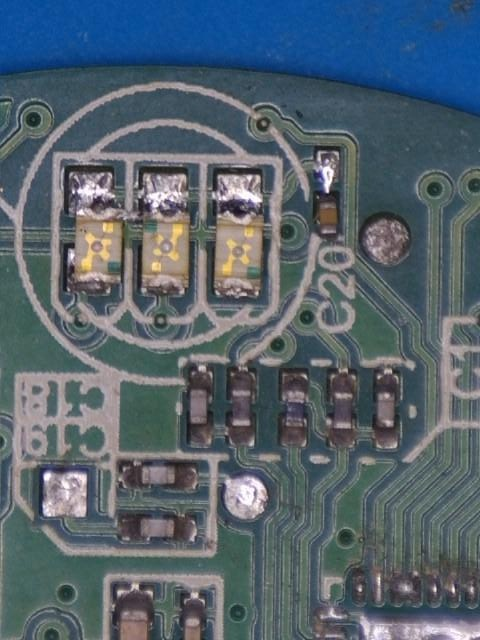pcb_defect: (67, 170, 124, 296), (139, 171, 191, 299), (212, 172, 264, 298), (67, 171, 188, 221), (313, 150, 340, 235), (312, 150, 340, 223), (389, 571, 423, 608)
